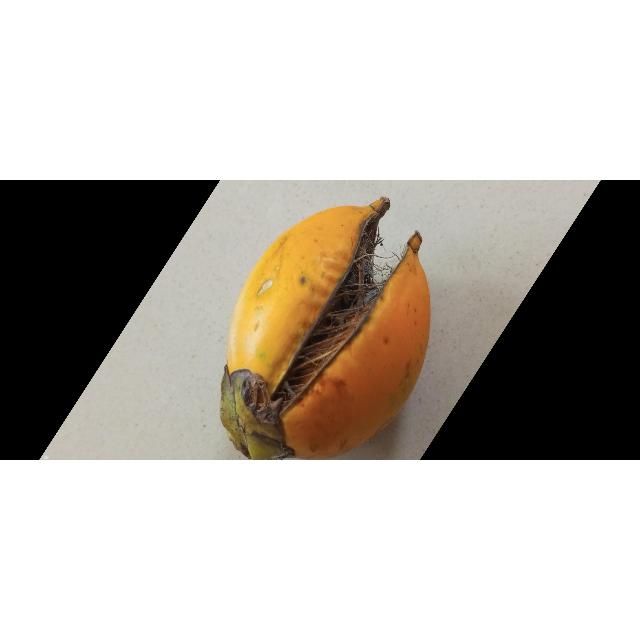damaged: (220, 197, 431, 461)
